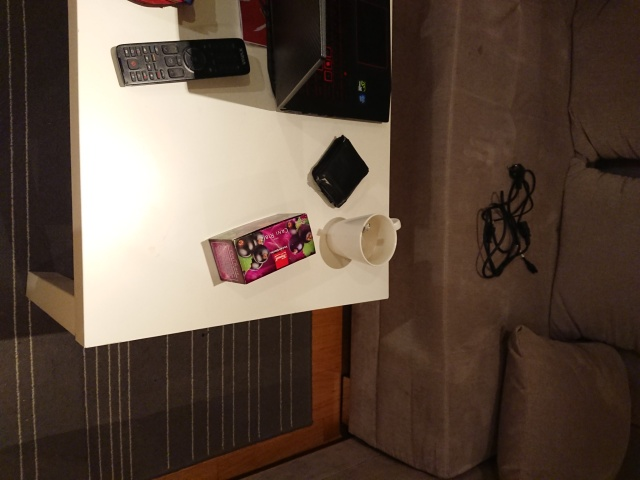Franck Black Currant Tea 60g: (206, 210, 318, 285)
